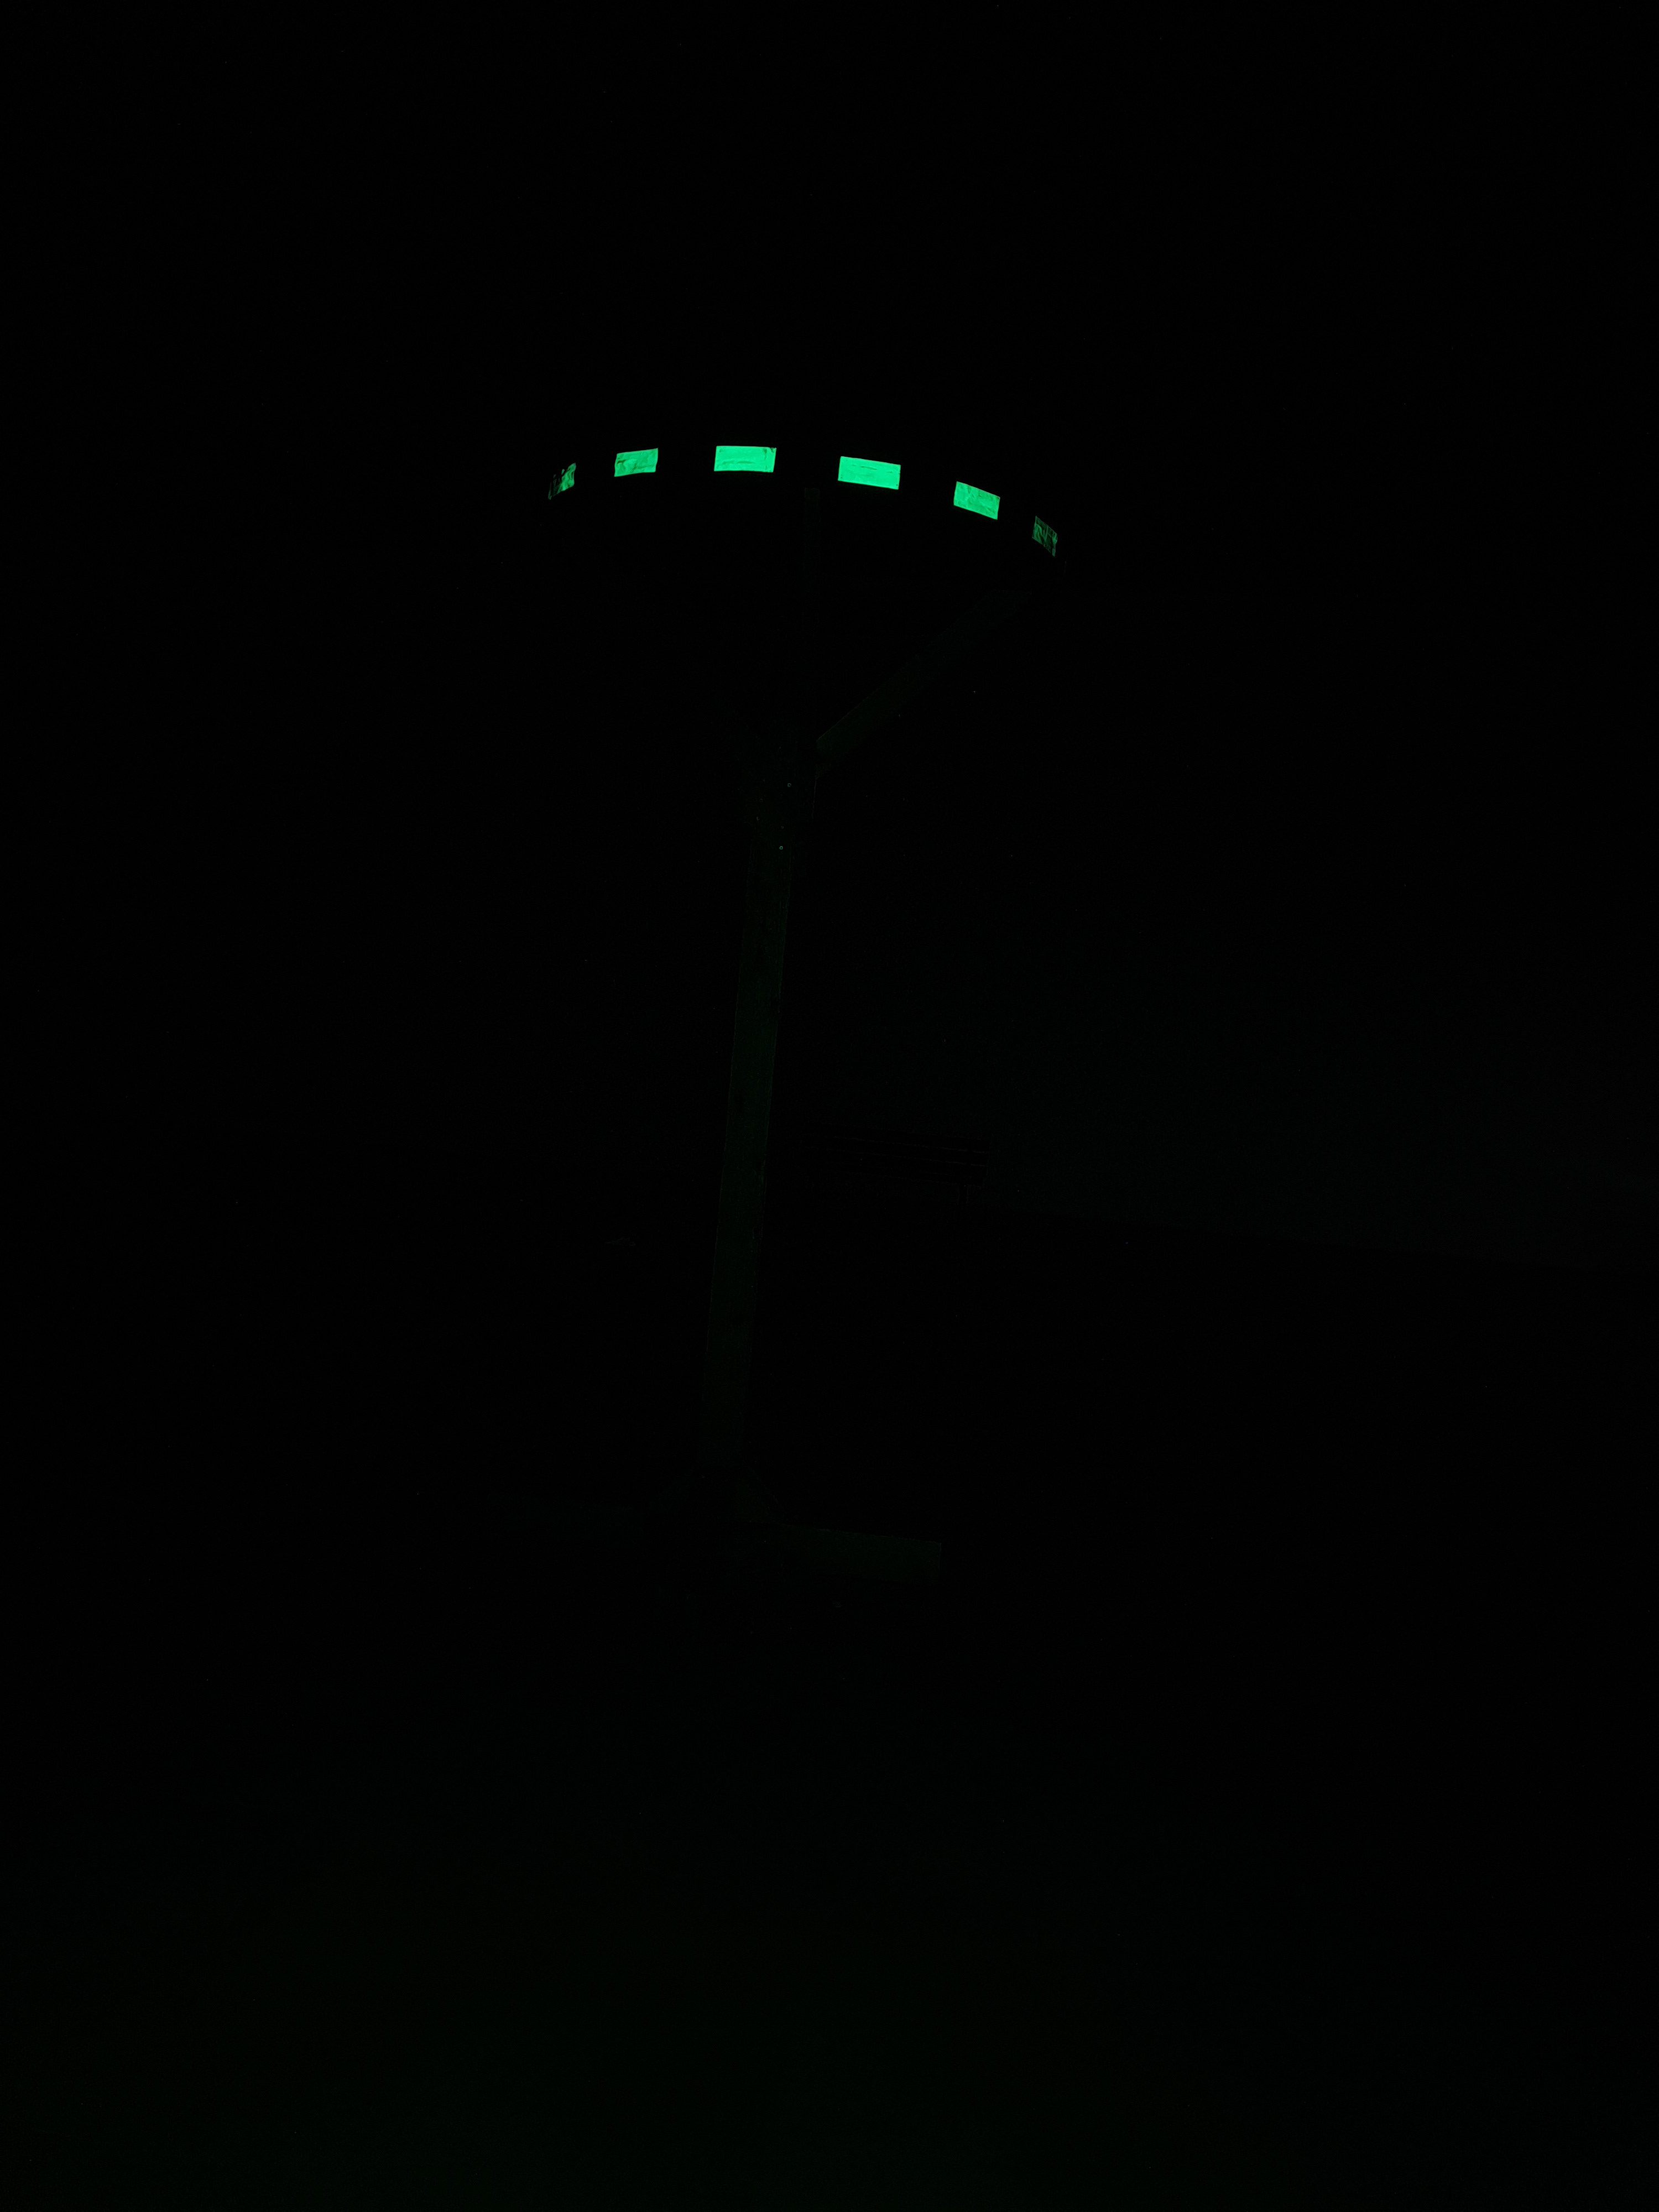hoop: (533, 435, 1063, 568)
